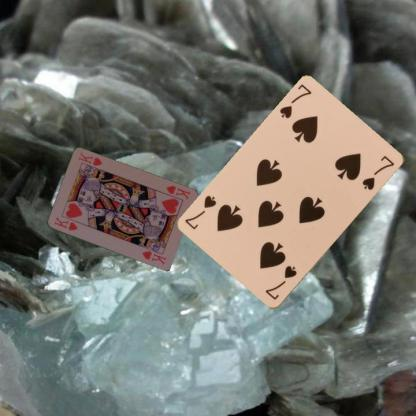7s: (262, 263, 299, 301), (277, 82, 313, 120)
Kh: (163, 183, 191, 201), (52, 214, 78, 232)
